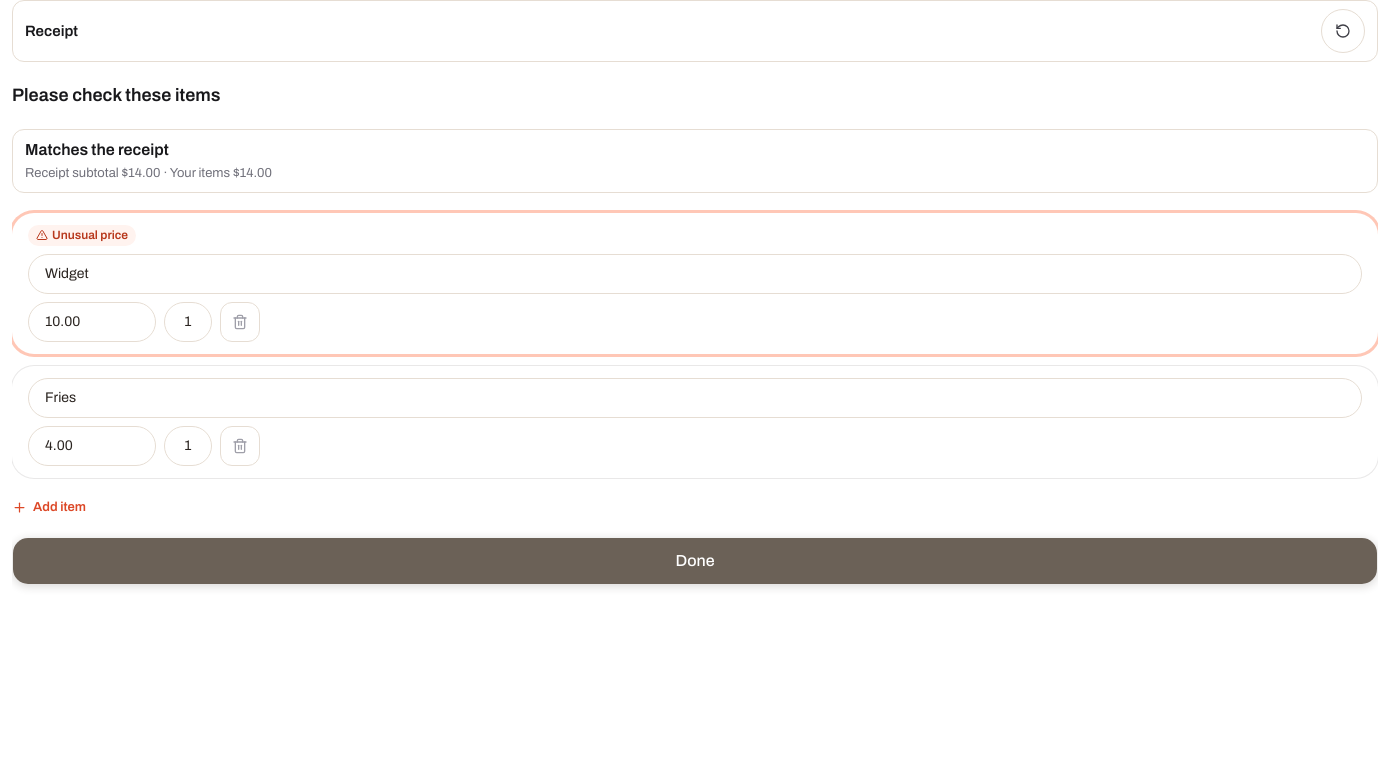
Test case: ScanItemsEditor › flagged line shows its reason and the flag disappears after the user edits that line
This screenshot has width=1390, height=768.
Check: the element with test id "scan-line-flag" reads "Unusual price", box [52, 228, 128, 242]
Replace the text in the field named "Price" below "Unusual price" with "10.50" at (92, 322), box [28, 302, 156, 342]
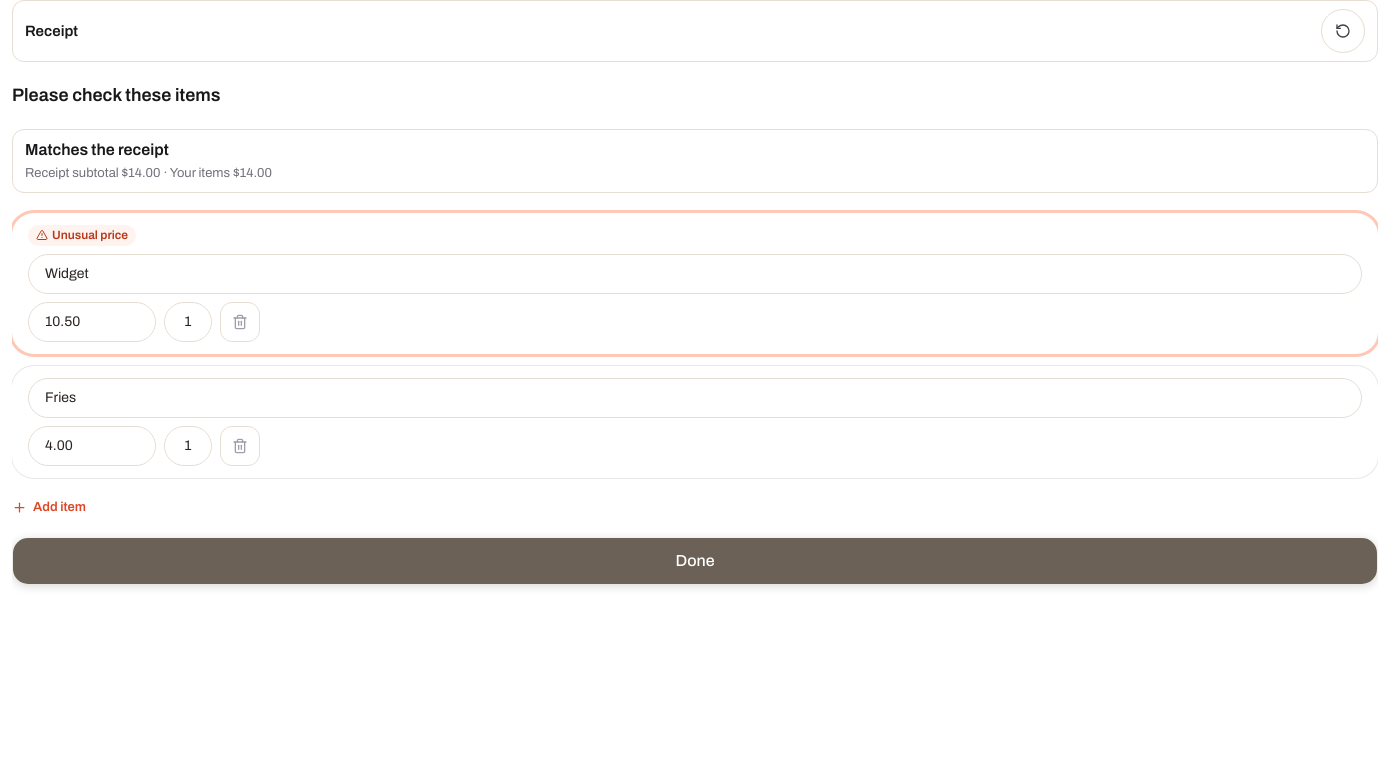
Leave the field named "Price" below "Unusual price", box [28, 302, 156, 342]
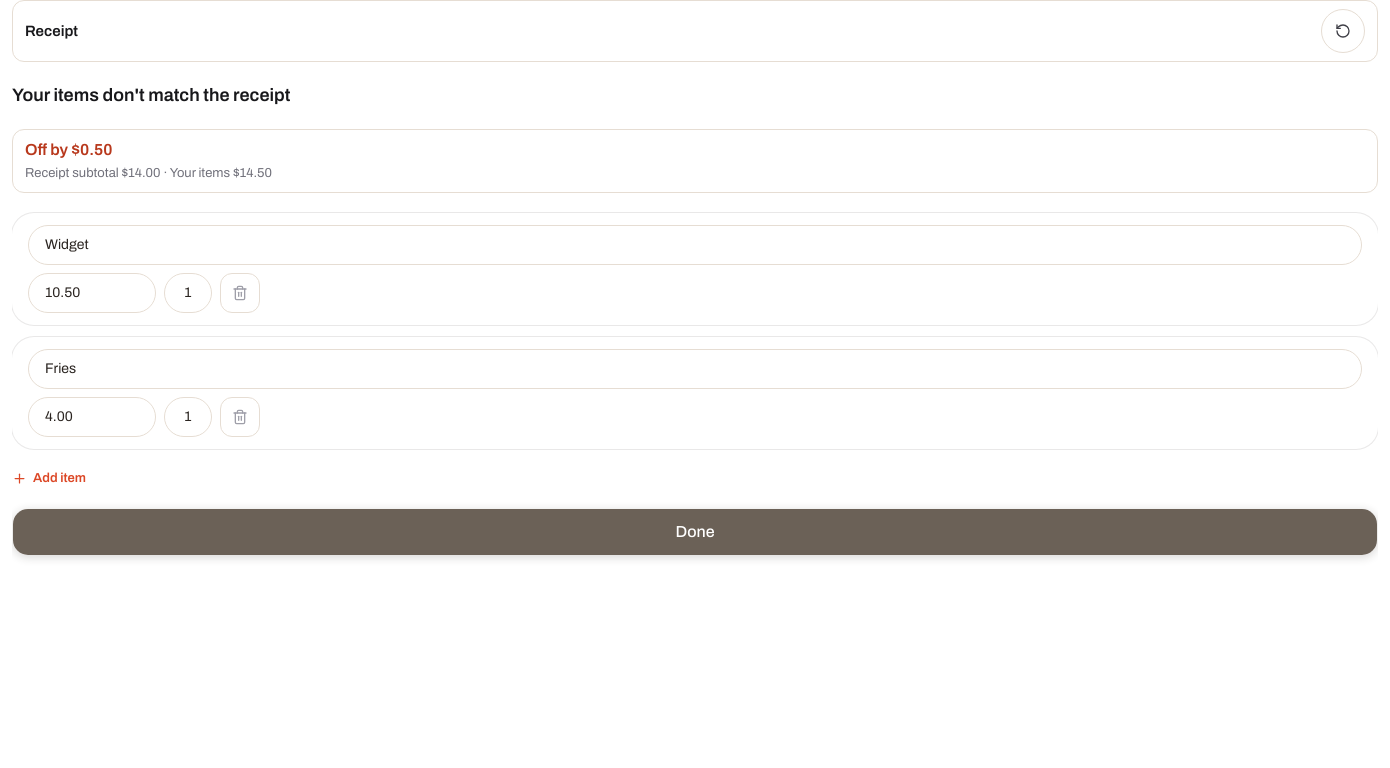
Check: the element with test id "scan-line-flag" is gone
